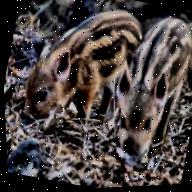boar: (4, 0, 156, 170), (100, 5, 192, 188)
